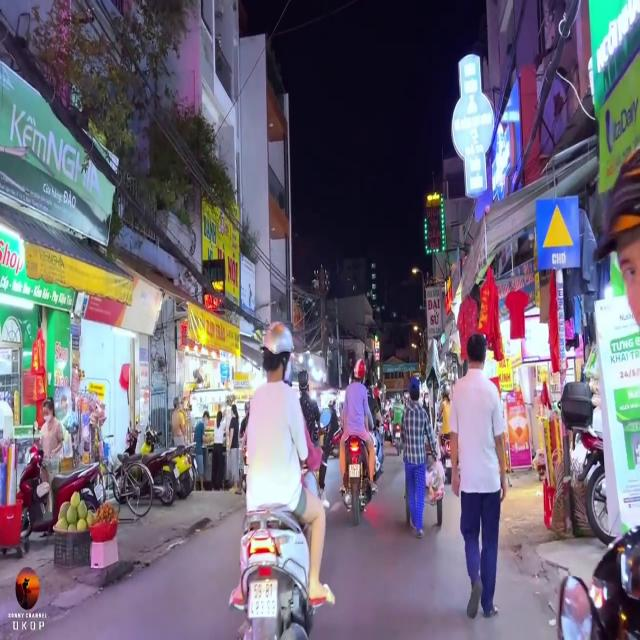bien_trang: (247, 576, 277, 618), (349, 464, 359, 478)
